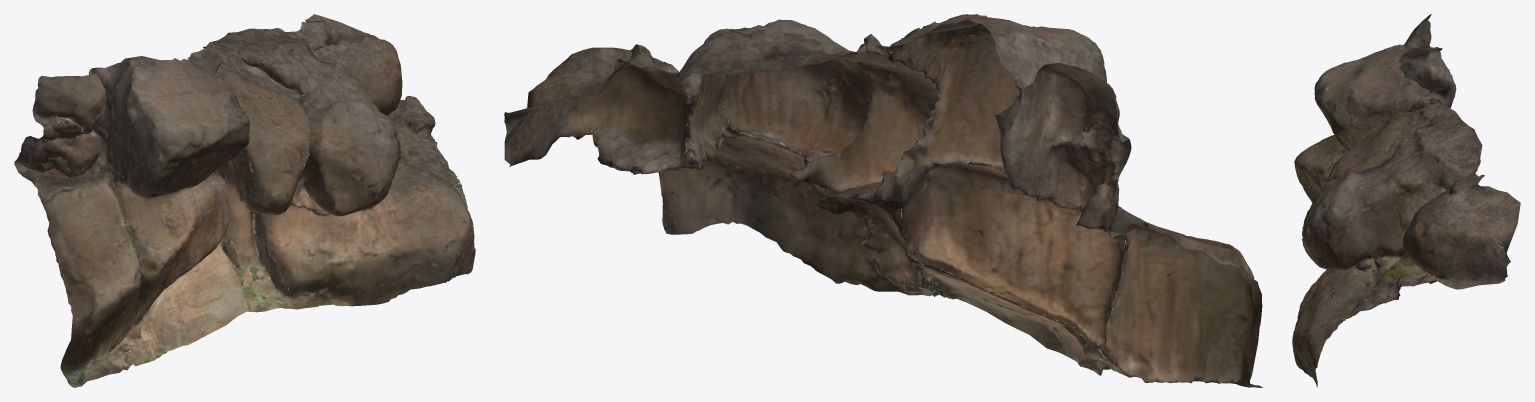
Rendered from cc0_cliff.glb.
3 views of the same model, side by side, from view 1: azimuth 30°, elevation 25°; view 2: azimuth 150°, elevation 25°; view 3: azimuth 270°, elevation 25° (orthographic). The views are drawn at different scales.
Visible parts, largest first — view 1: drone_rock_01; view 2: drone_rock_01; view 3: drone_rock_01.
Part boxes in pixels (left/top/right/bottom): drone_rock_01: left=14, top=14, right=475, bottom=387; drone_rock_01: left=504, top=14, right=1263, bottom=387; drone_rock_01: left=1292, top=14, right=1520, bottom=387.
Bounding box in the file's own units: 8.28 × 4.96 × 4.39.
Materials: 1 (1 with a texture image).
